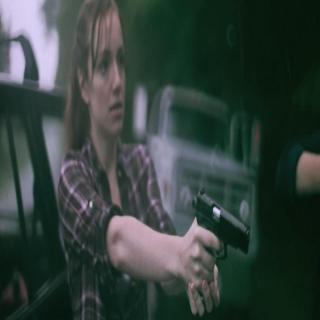gun: (188, 184, 250, 294)
